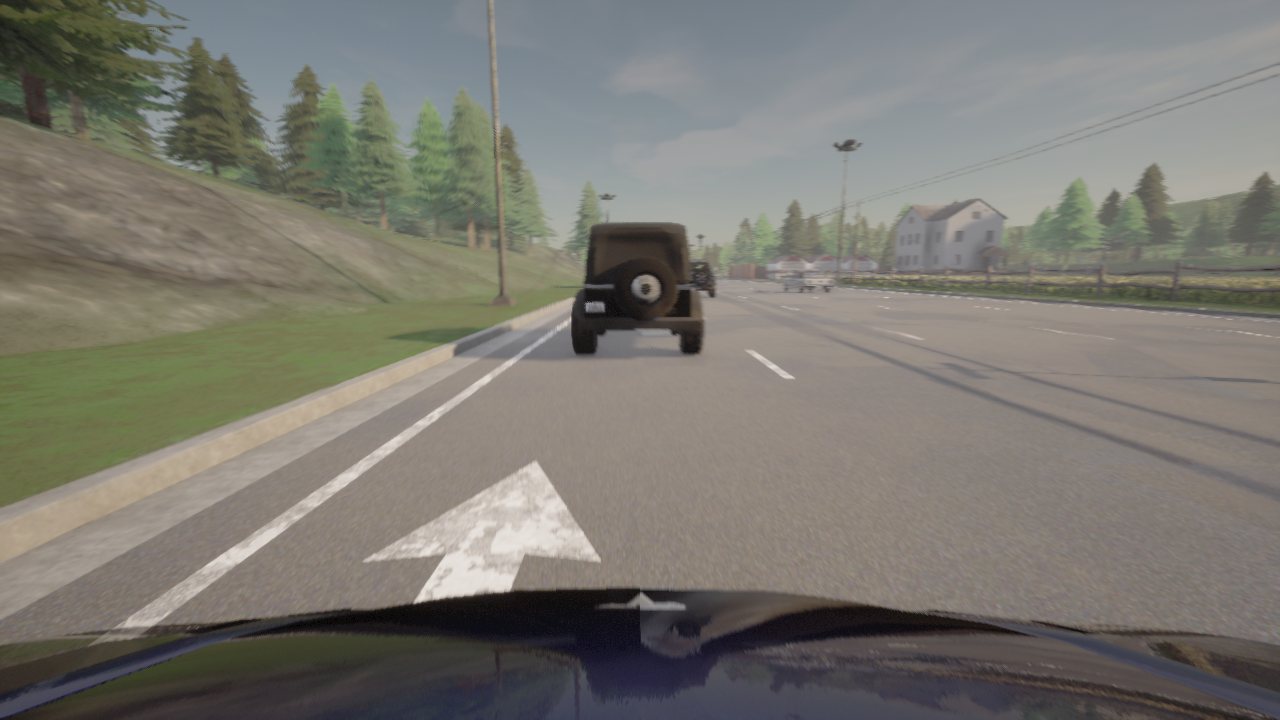cyclist: (0, 588, 1279, 719), (572, 223, 703, 354), (782, 271, 834, 292), (690, 260, 715, 297)
